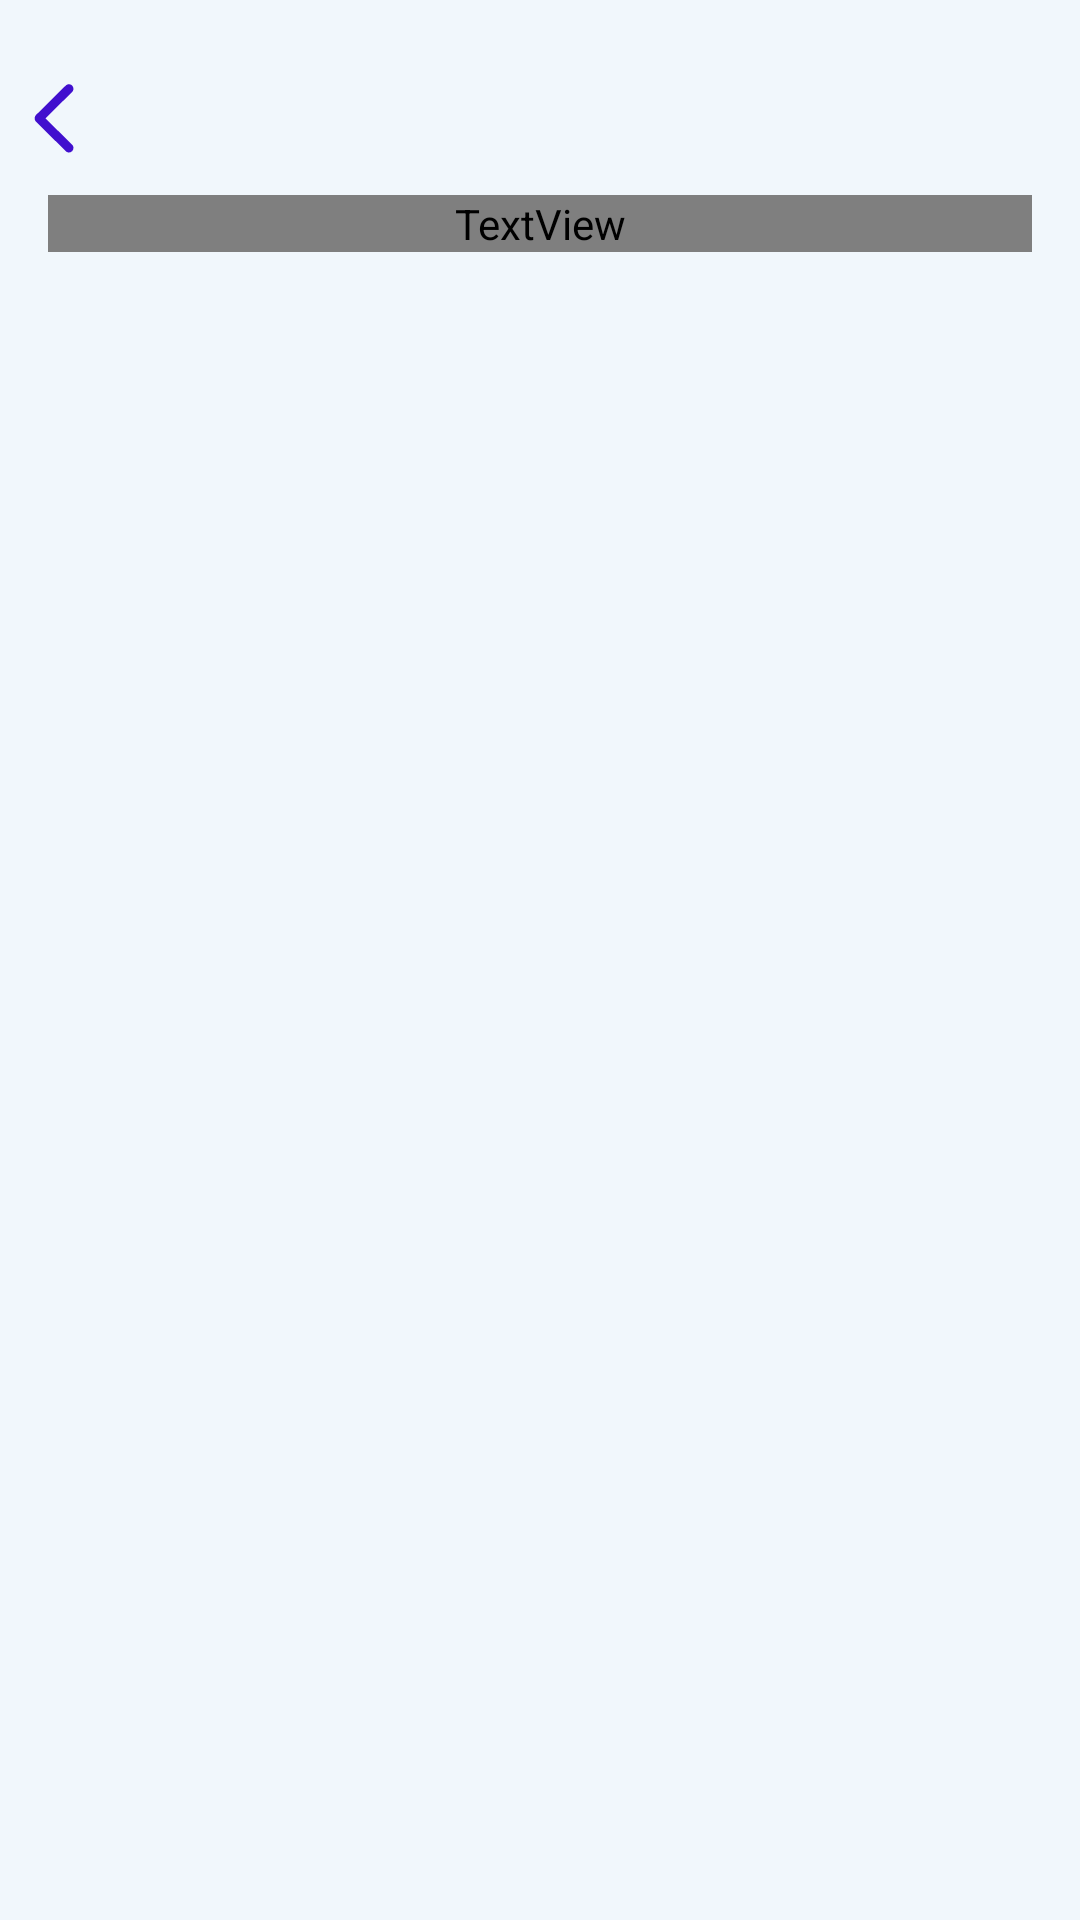

Icon click points for this 1080w x 1920h phone screenshot, format (x,y):
chevron left: (54,118)
